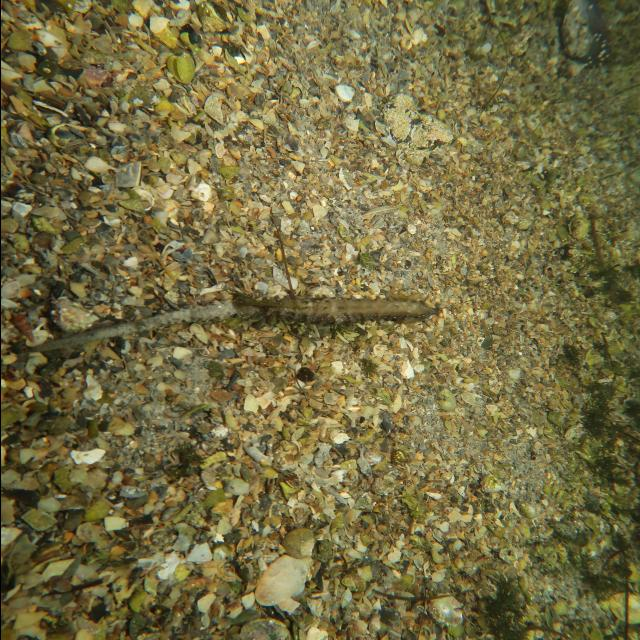Guttu: (248, 293, 441, 331)
